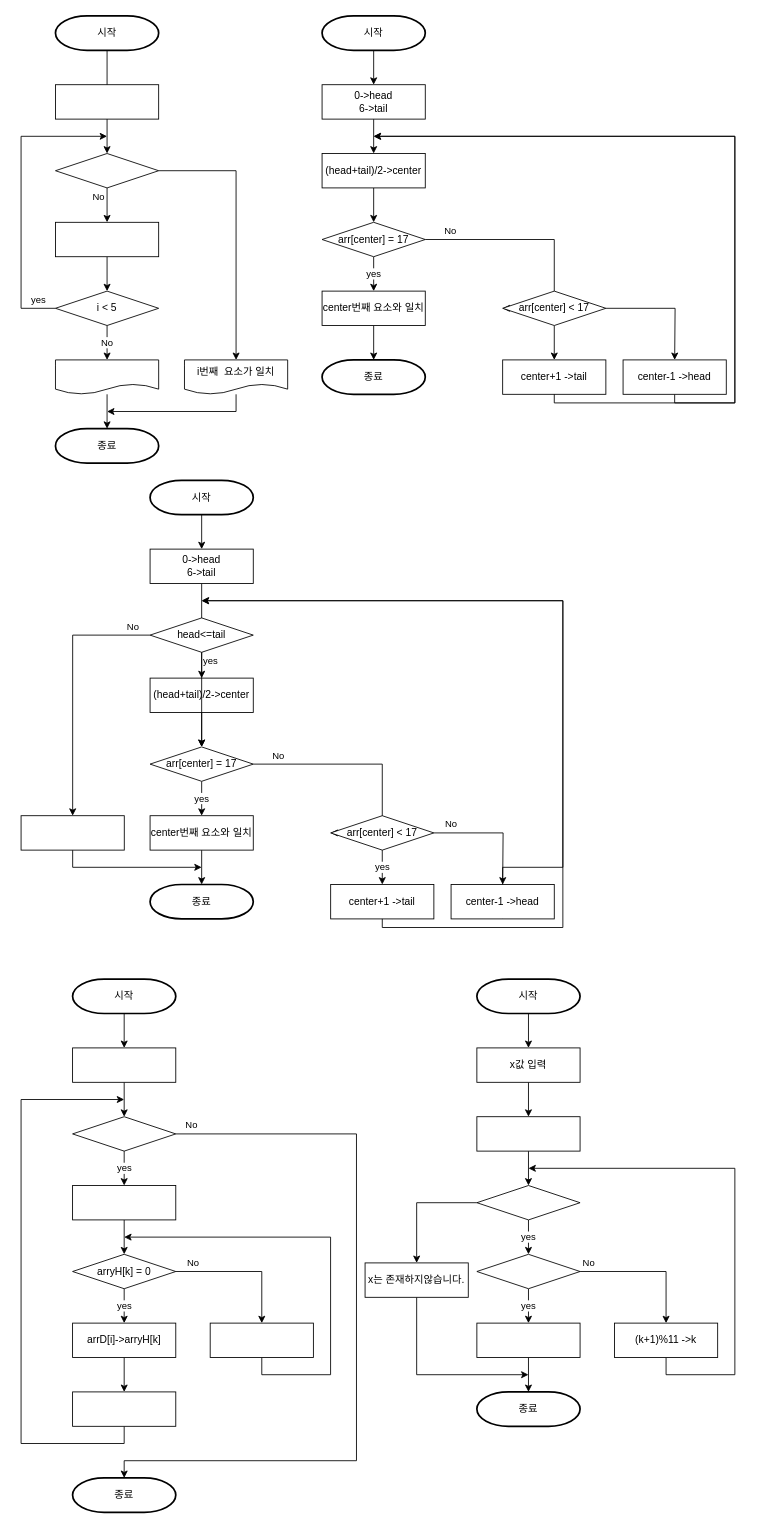
Some shapes in this 757 by 1527 pixel diagram are drawn without their labels. Each missing label, with the centre of its shape:
"0 ->i" goes at point (107, 101).
"0->i" goes at point (124, 1064).
"array[i] = 5" goes at point (107, 170).
"arryD[i] % 11->k" goes at point (124, 1202).
"arryH[k]=x" goes at point (528, 1271).
"arryH[k]≠0" goes at point (528, 1202).
"i + 1 -> i" goes at point (124, 1408).
"i +=1" goes at point (107, 239).
"i<7" goes at point (124, 1133).
"k + 1 ->k" goes at point (261, 1340).
"x % 11 -> k" goes at point (528, 1133).
"저장 위치는 k번째 요소다" goes at point (528, 1340).
"찾지 못했습니다." goes at point (72, 832).
"찾지못했습니다." goes at point (107, 376).
